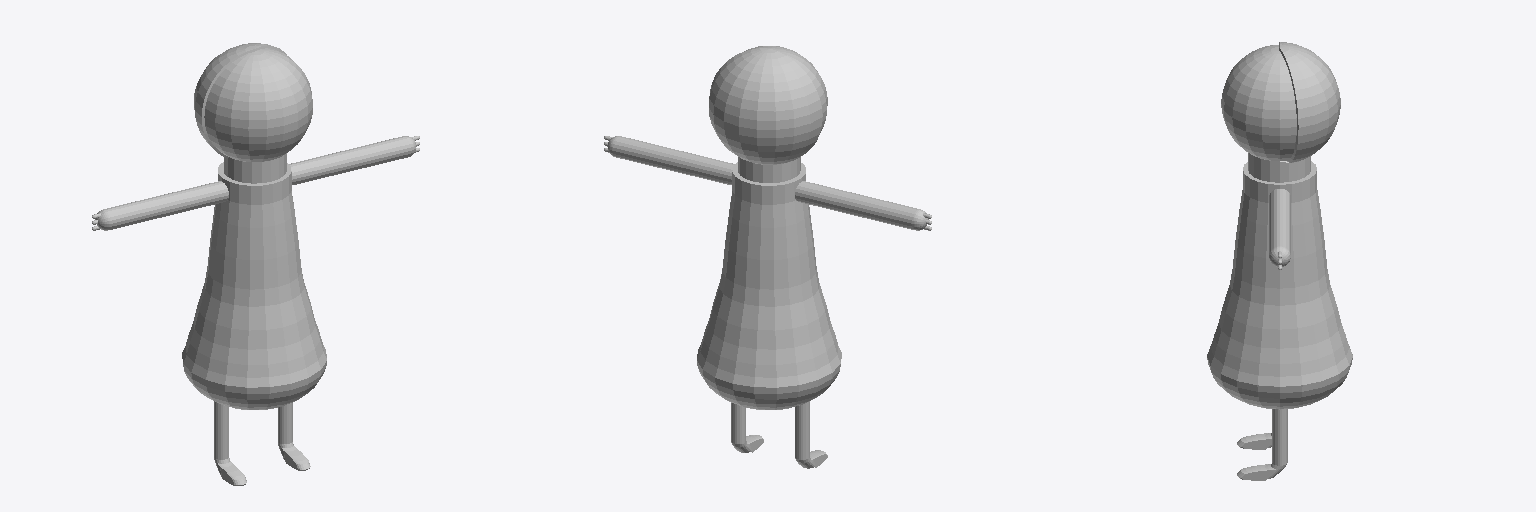
The model's file is npcmasculino3.obj.
3 views of the same model, side by side, from view 1: azimuth 30°, elevation 25°; view 2: azimuth 150°, elevation 25°; view 3: azimuth 270°, elevation 25° (orthographic).
Parts seen in each view (by area): view 1: pSphere95; view 2: pSphere95; view 3: pSphere95.
Boxes of the visible parts, box(x1,y1,x2,y2) form: pSphere95: box(92, 43, 419, 485); pSphere95: box(604, 46, 931, 468); pSphere95: box(1207, 42, 1352, 480).
Size of the model in its own units: 49.18 by 59.52 by 18.99.